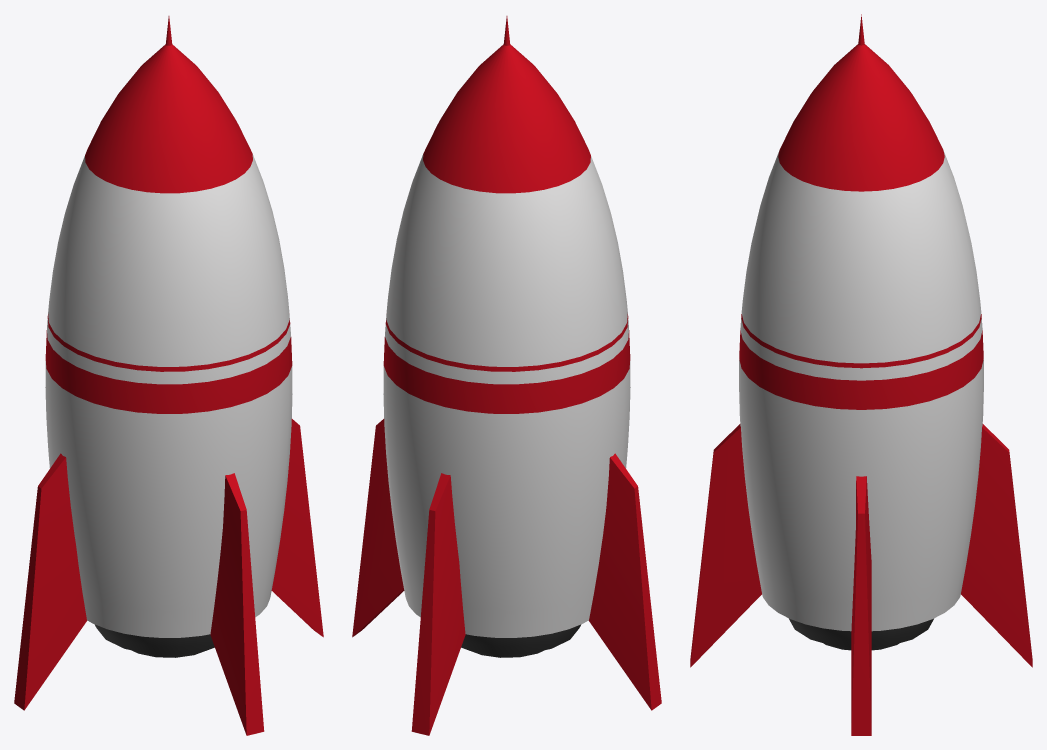
Rendered from BigRocket.fbx.
The picture shows the model from 3 angles, left to right: view 1: azimuth 30°, elevation 25°; view 2: azimuth 150°, elevation 25°; view 3: azimuth 270°, elevation 25°; orthographic projection.
Parts seen in each view (by area): view 1: body, empennage_2, empennage_1, empennage_0, impetus; view 2: body, empennage_2, empennage_3, empennage_0, impetus; view 3: body, empennage_1, empennage_3, empennage_0, impetus.
Boxes of the visible parts, x1,y1,x2,y2 form: body: (45, 44, 292, 637); empennage_2: (14, 453, 87, 710); empennage_1: (210, 473, 264, 735); empennage_0: (271, 419, 323, 637); impetus: (94, 624, 214, 657); body: (383, 44, 630, 637); empennage_2: (588, 453, 661, 710); empennage_3: (411, 473, 465, 735); empennage_0: (352, 419, 404, 637); impetus: (461, 624, 581, 657); body: (739, 44, 983, 631); empennage_1: (690, 424, 761, 667); empennage_3: (961, 424, 1032, 667); empennage_0: (851, 476, 871, 735); impetus: (789, 618, 933, 650).
Size of the model in its own units: 159 by 332 by 159.
